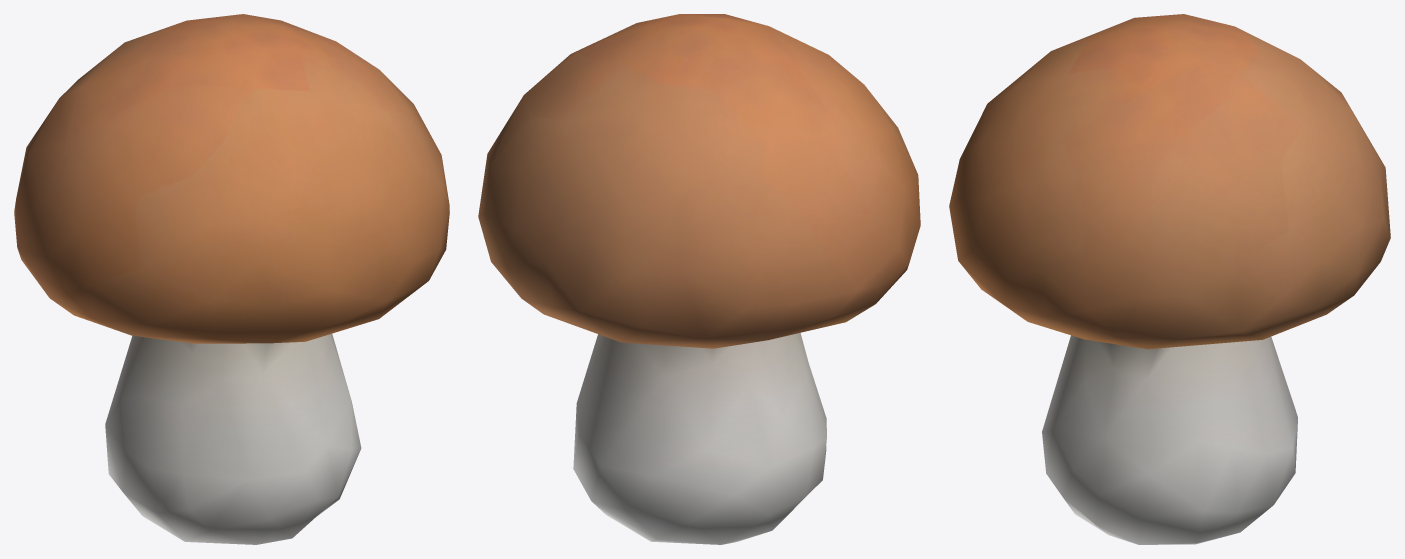
The model's file is mushroom-cap.glb.
The picture shows the model from 3 angles, left to right: view 1: azimuth 30°, elevation 25°; view 2: azimuth 150°, elevation 25°; view 3: azimuth 270°, elevation 25°; orthographic projection.
Size of the model in its own units: 1.34 by 1.65 by 1.34.
1 material, 1 textured.
